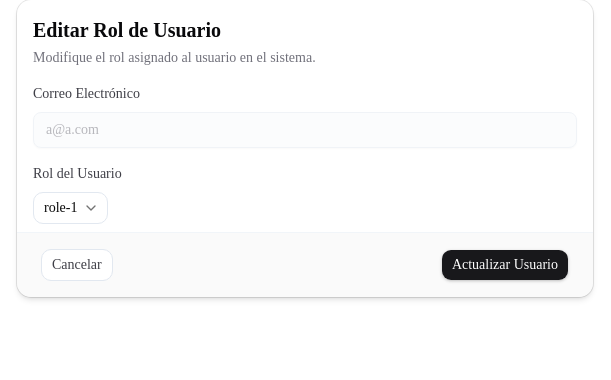
Scenario: UserForm › muestra mensaje de error por defecto si falla sin mensaje
The width and height of the screenshot is (611, 380).
Click the button "Actualizar Usuario" at [505, 265], box [441,249,569,281]
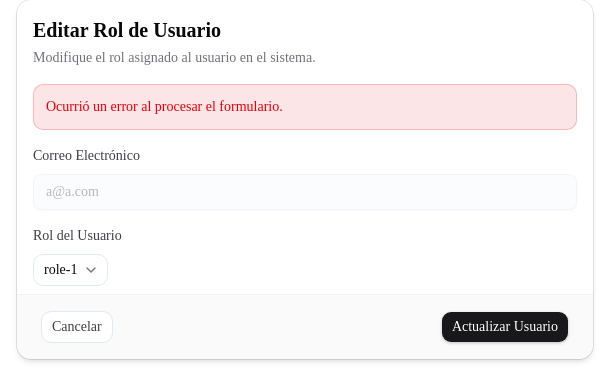
Check: the text "Ocurrió un error al procesar el formulario." is shown, box [33,84,577,130]
